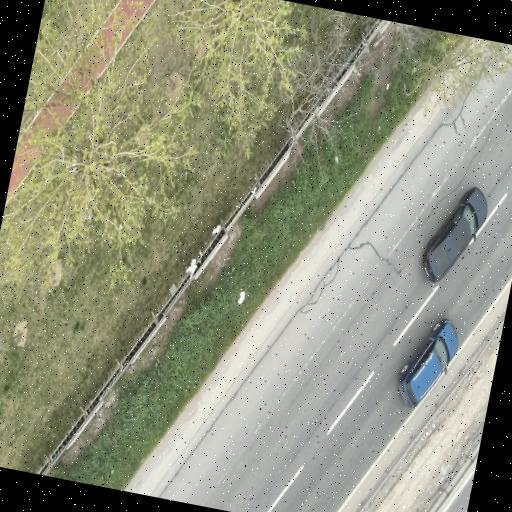car: (422, 187, 486, 282), (398, 319, 457, 407)
